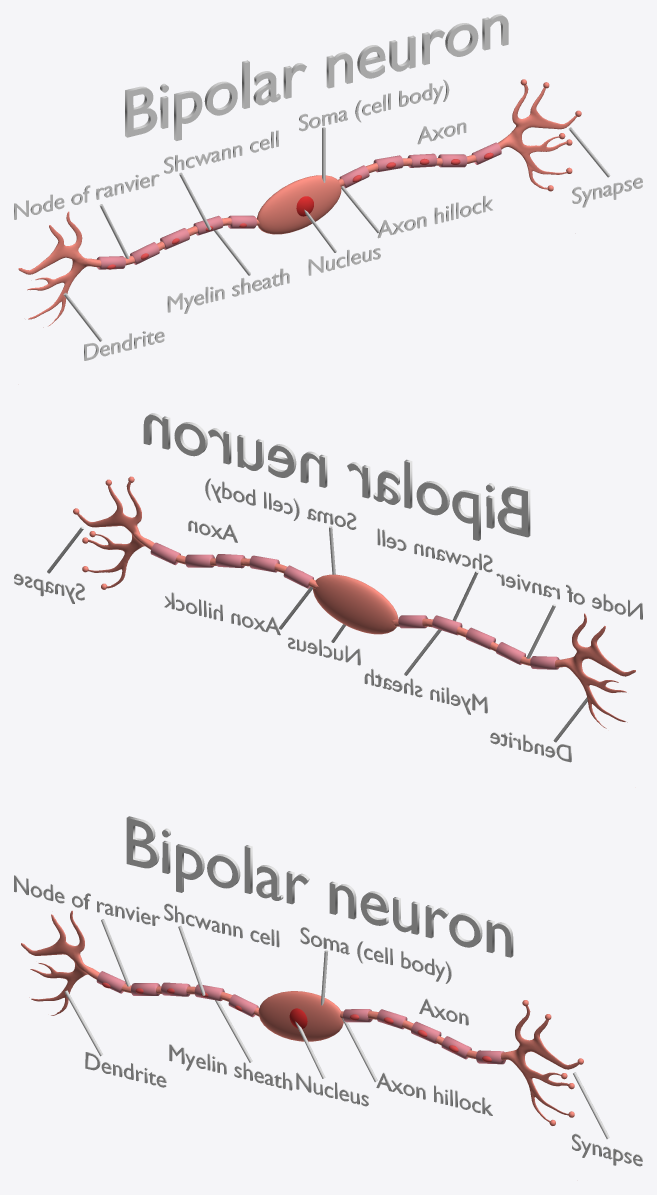
File: tvepol.glb
The picture shows the model from 3 angles, top to bottom: view 1: azimuth 30°, elevation 25°; view 2: azimuth 150°, elevation 25°; view 3: azimuth 330°, elevation 25°; orthographic projection.
Parts seen in each view (by area): view 1: ทรงกลม, ช้อความ.012, ทรงกระบอก.002, ทรงกระบอก.005, ช้อความ.008, ช้อความ.005, ช้อความ.001, ช้อความ.004, ช้อความ.007, ช้อความ.009, ช้อความ.002, ช้อความ.010; view 2: ทรงกลม, ช้อความ.012, ทรงกระบอก.005, ทรงกระบอก.002, ช้อความ.008, ช้อความ.005, ช้อความ.001, ช้อความ.004, ช้อความ.007, ช้อความ.009, ช้อความ.002, ช้อความ.010; view 3: ช้อความ.012, ทรงกลม, ทรงกระบอก.002, ทรงกระบอก.005, ช้อความ.008, ช้อความ.005, ช้อความ.001, ช้อความ.004, ช้อความ.007, ช้อความ.009, ช้อความ.010, ช้อความ.002.
Boxes of the visible parts, x1,y1,x2,y2 form: ทรงกลม: [18, 79, 581, 327]; ช้อความ.012: [125, 14, 508, 140]; ทรงกระบอก.002: [97, 215, 256, 269]; ทรงกระบอก.005: [339, 142, 501, 188]; ช้อความ.008: [299, 79, 449, 131]; ช้อความ.005: [14, 174, 159, 219]; ช้อความ.001: [167, 268, 289, 313]; ช้อความ.004: [164, 130, 278, 173]; ช้อความ.007: [377, 195, 492, 238]; ช้อความ.009: [84, 331, 164, 360]; ช้อความ.002: [572, 177, 642, 207]; ช้อความ.010: [308, 248, 380, 275]; ทรงกลม: [73, 476, 635, 728]; ช้อความ.012: [143, 413, 530, 540]; ทรงกระบอก.005: [150, 542, 313, 588]; ทรงกระบอก.002: [398, 615, 559, 669]; ช้อความ.008: [205, 478, 356, 529]; ช้อความ.005: [496, 573, 642, 619]; ช้อความ.001: [364, 668, 487, 714]; ช้อความ.004: [377, 528, 492, 572]; ช้อความ.007: [164, 592, 280, 635]; ช้อความ.009: [490, 732, 571, 762]; ช้อความ.002: [14, 573, 84, 603]; ช้อความ.010: [288, 637, 360, 665]; ช้อความ.012: [126, 816, 513, 957]; ทรงกลม: [21, 910, 583, 1125]; ทรงกระบอก.002: [96, 971, 258, 1017]; ทรงกระบอก.005: [343, 1009, 505, 1064]; ช้อความ.008: [300, 927, 451, 983]; ช้อความ.005: [14, 875, 160, 925]; ช้อความ.001: [169, 1044, 292, 1090]; ช้อความ.004: [164, 903, 279, 947]; ช้อความ.007: [376, 1072, 492, 1115]; ช้อความ.009: [85, 1052, 166, 1087]; ช้อความ.010: [296, 1072, 368, 1106]; ช้อความ.002: [572, 1133, 642, 1166].
Bounding box in the file's own units: 27.92 × 11.44 × 0.9584.
